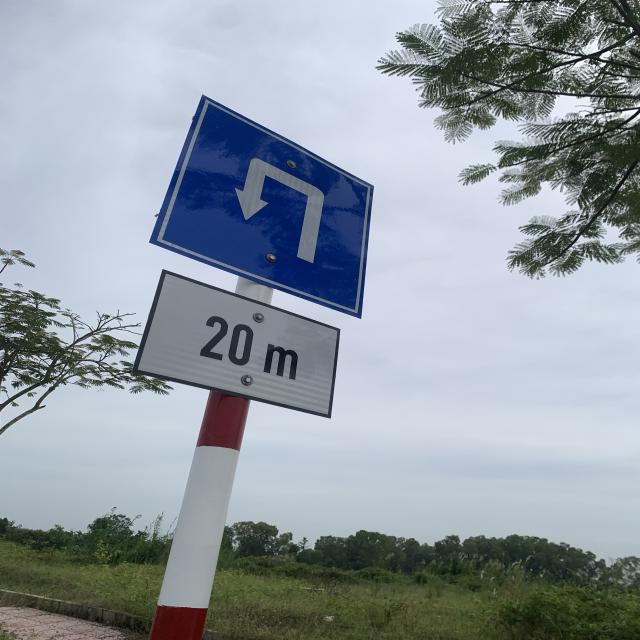Den_Giao_Thong: (147, 88, 379, 317)
